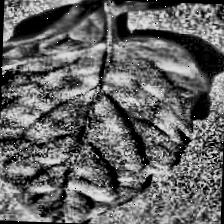leaf mold: (0, 7, 213, 224)
